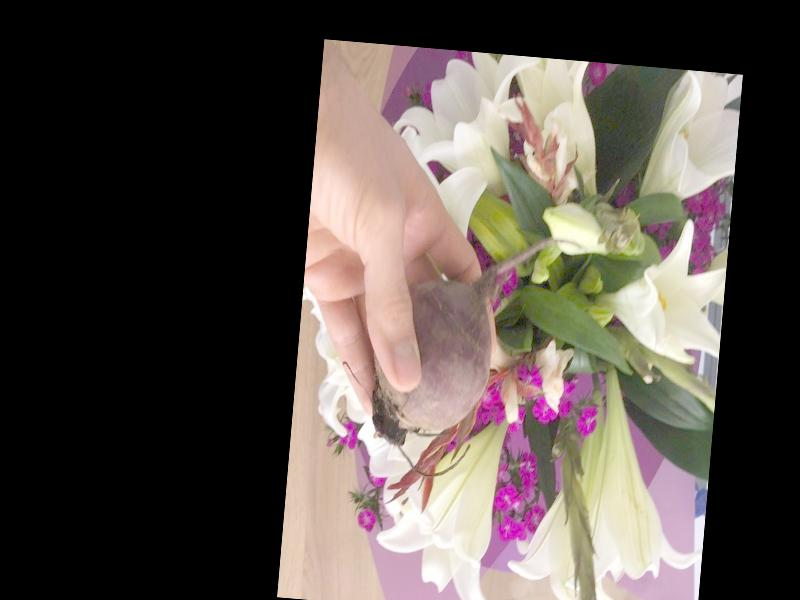Beet: (365, 223, 584, 488)
